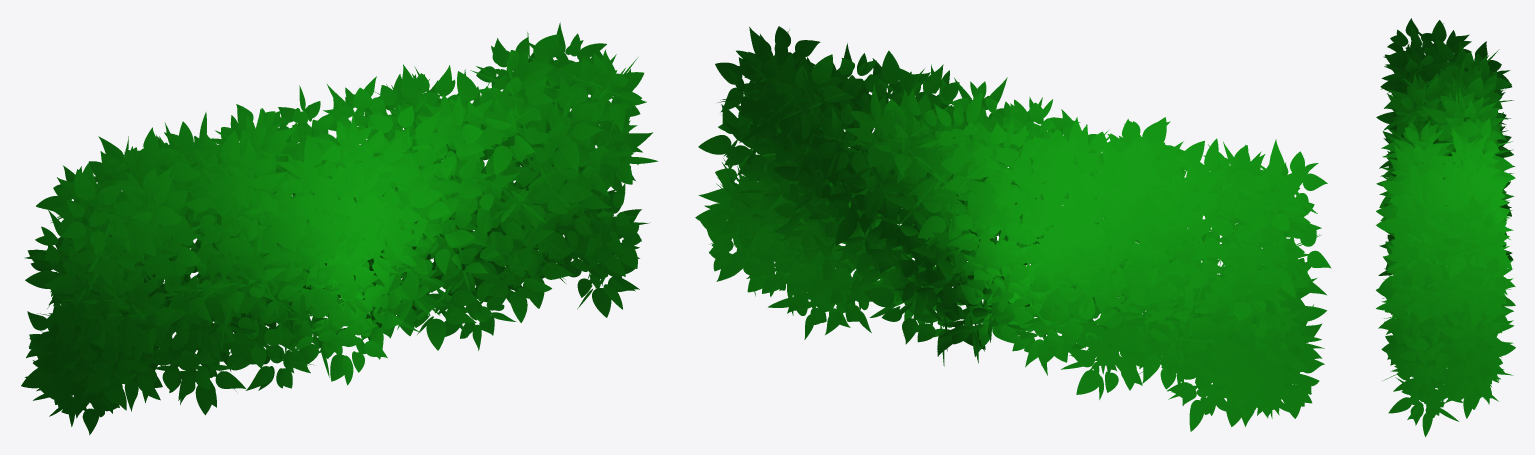
The model's file is Tori_PensasAita_LOD0.fbx.
3 views of the same model, side by side, from view 1: azimuth 30°, elevation 25°; view 2: azimuth 150°, elevation 25°; view 3: azimuth 270°, elevation 25° (orthographic). The views are drawn at different scales.
Parts seen in each view (by area): view 1: PensasAita_LOD0; view 2: PensasAita_LOD0; view 3: PensasAita_LOD0.
Boxes of the visible parts, x1,y1,x2,y2 form: PensasAita_LOD0: (21, 22, 657, 435); PensasAita_LOD0: (695, 26, 1331, 431); PensasAita_LOD0: (1376, 18, 1515, 436).
Size of the model in its own units: 410 by 184 by 108.
